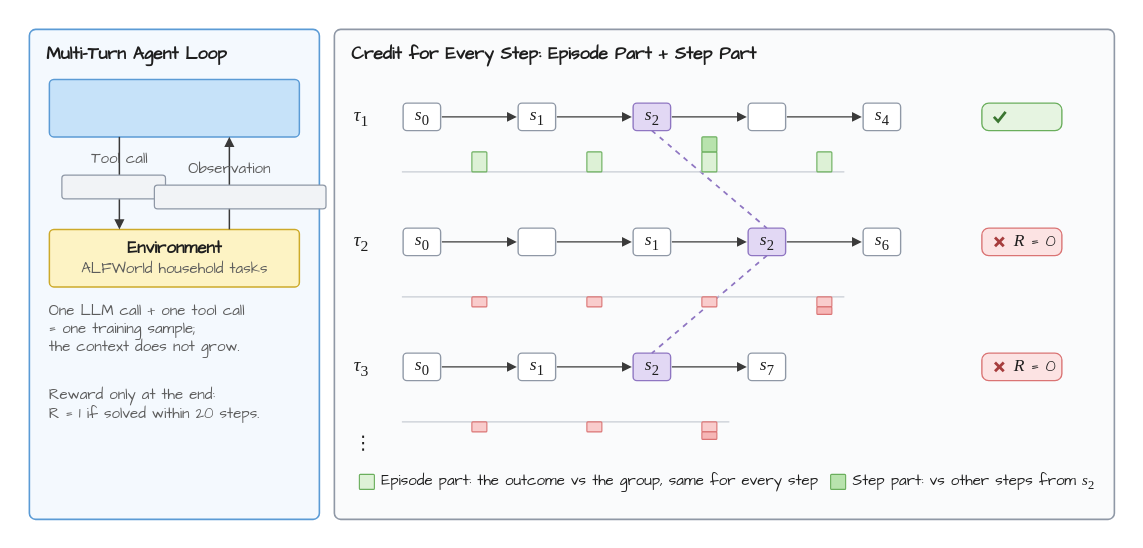
Image size: 1143x548. Some labels were removed from this diagram. Each missing label, with the box of its shape:
go to fridge 1: (61, 174, 166, 199)
LLM Agent Qwen3-4B: (48, 78, 300, 137)
R = 1: (981, 102, 1062, 131)
s 3: (747, 102, 786, 131)
s 5: (517, 227, 556, 256)
“You arrive at fridge 1.”: (153, 184, 326, 209)
